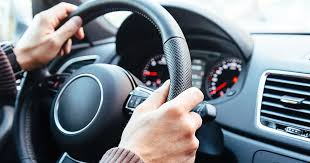Driving: (9, 3, 221, 161)
